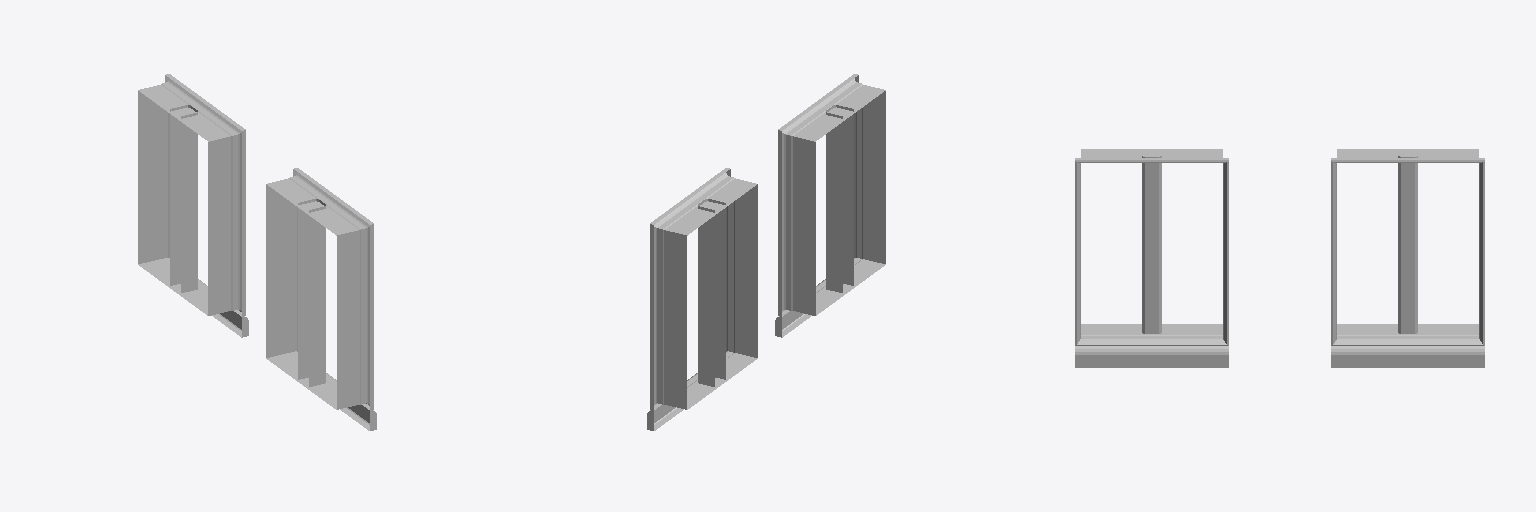
File: roomWindowFrames.obj
3 views of the same model, side by side, from view 1: azimuth 30°, elevation 25°; view 2: azimuth 150°, elevation 25°; view 3: azimuth 270°, elevation 25° (orthographic).
Bounding box in the file's own units: 0.2904 × 1.52 × 2.74.